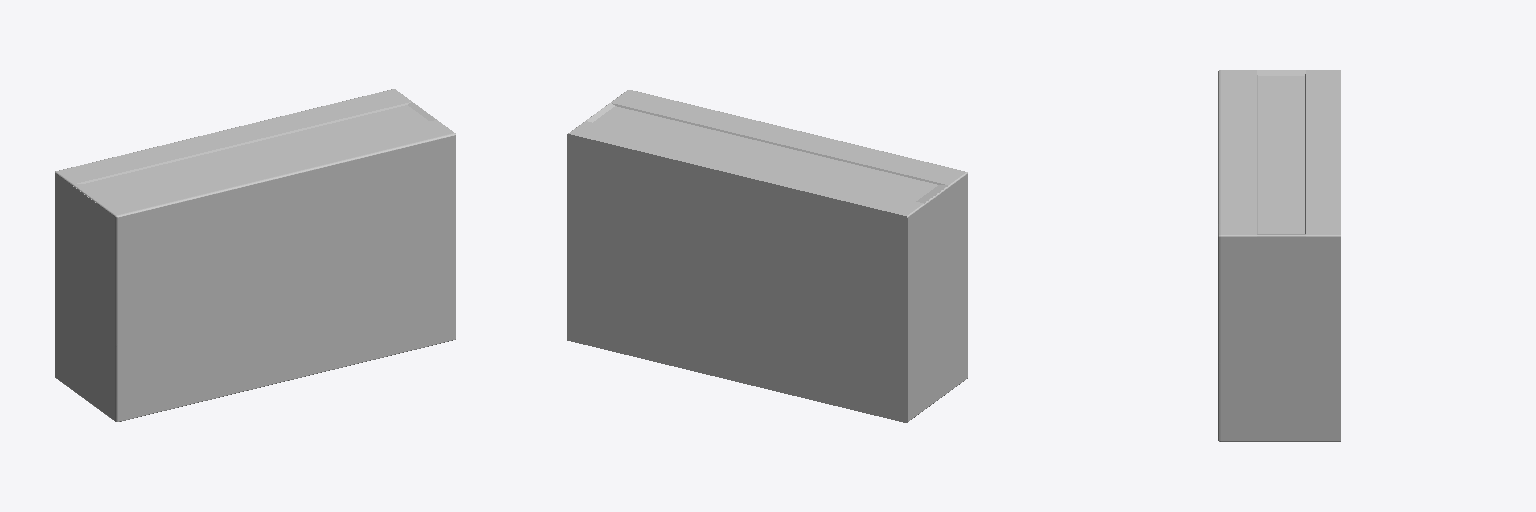
The model's file is RTX5090_BOX.obj.
3 views of the same model, side by side, from view 1: azimuth 30°, elevation 25°; view 2: azimuth 150°, elevation 25°; view 3: azimuth 270°, elevation 25° (orthographic).
Visible parts, largest first — view 1: Plane; view 2: Plane; view 3: Plane.
Part boxes in pixels (x1,y1,x2,y2): Plane: (55, 89, 455, 421); Plane: (567, 90, 967, 422); Plane: (1218, 70, 1340, 441).
Size of the model in its own units: 0.9231 by 0.5358 by 0.29.